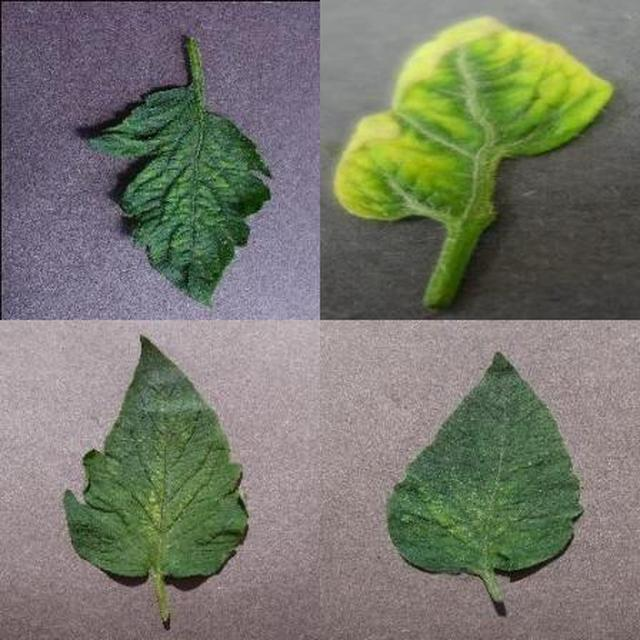Mosaic Virus Leaf: (224, 172, 640, 640)
